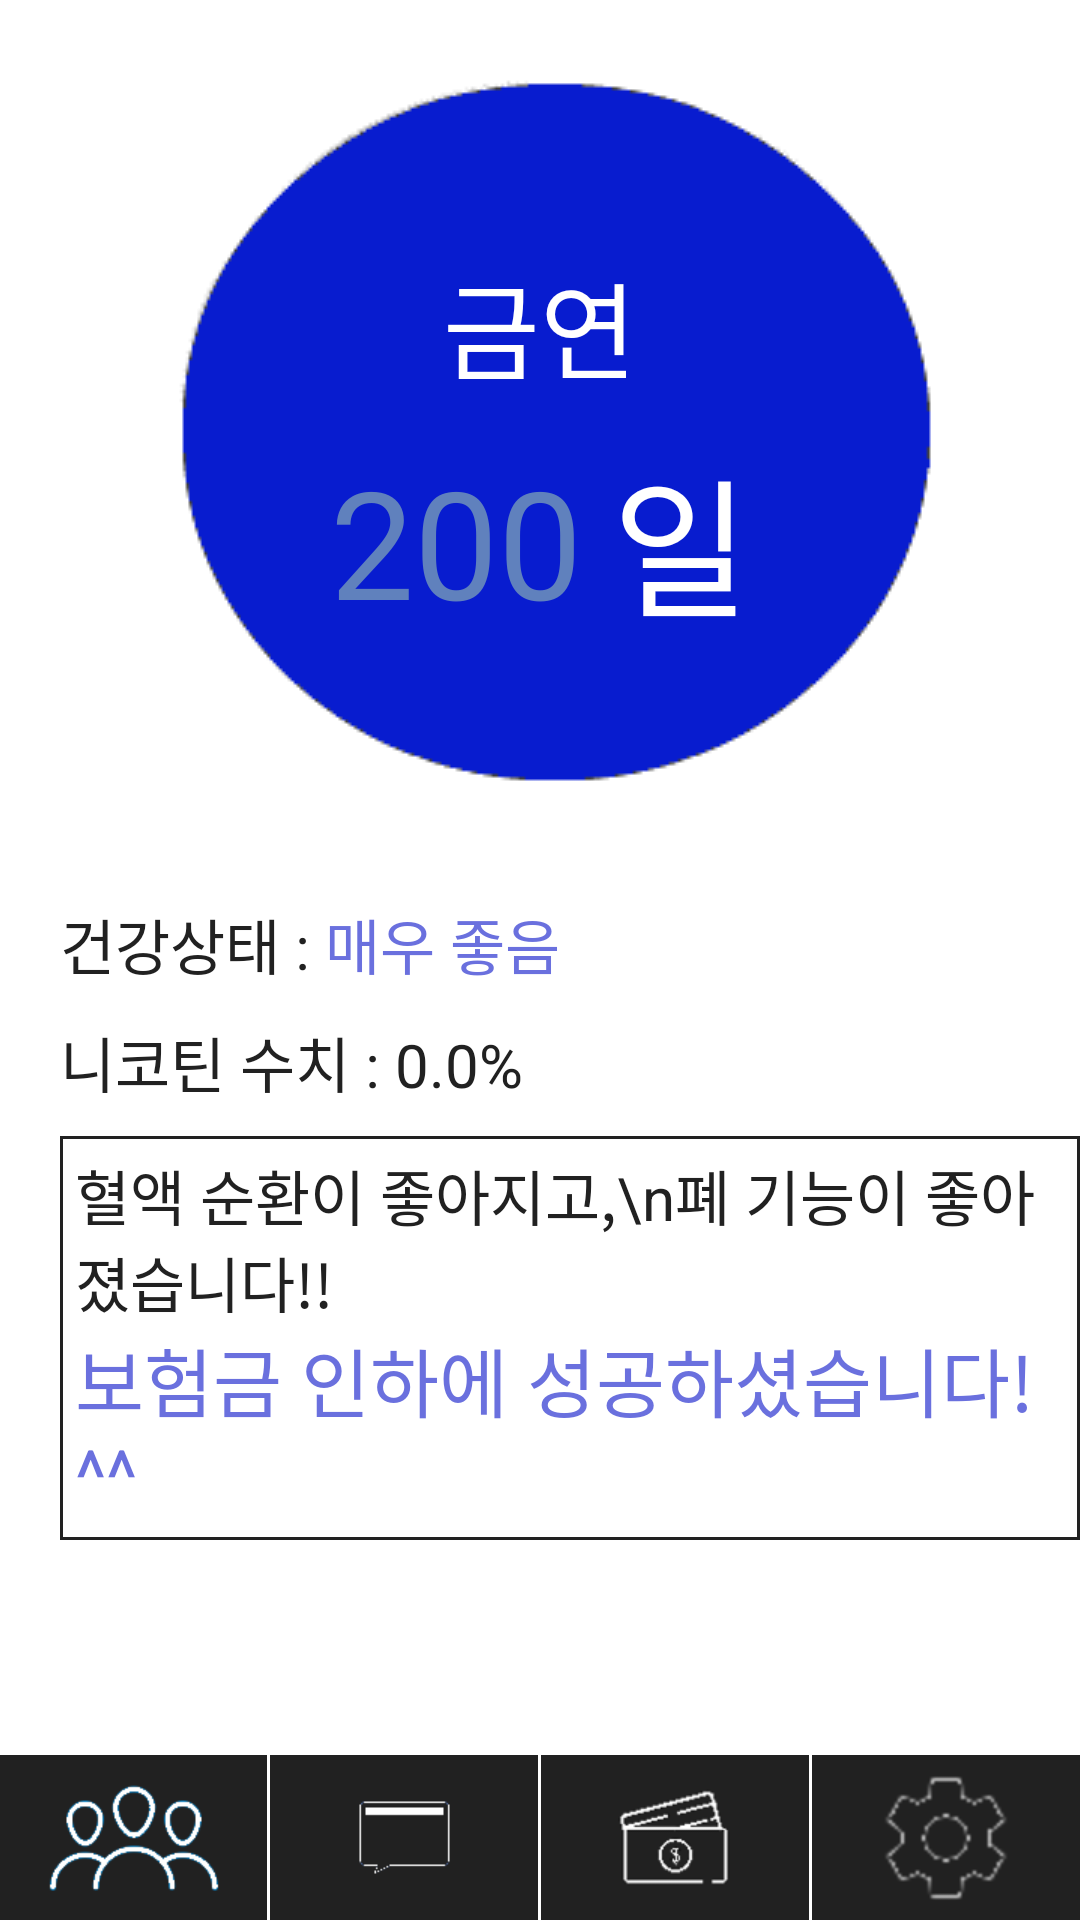

Where icons sit on this 1080x1920 app screen, as (x1, y1, x2, y2):
chat: (359, 1801, 450, 1874)
community: (0, 1755, 267, 1920)
money: (620, 1791, 728, 1884)
setting: (812, 1755, 1080, 1920)
